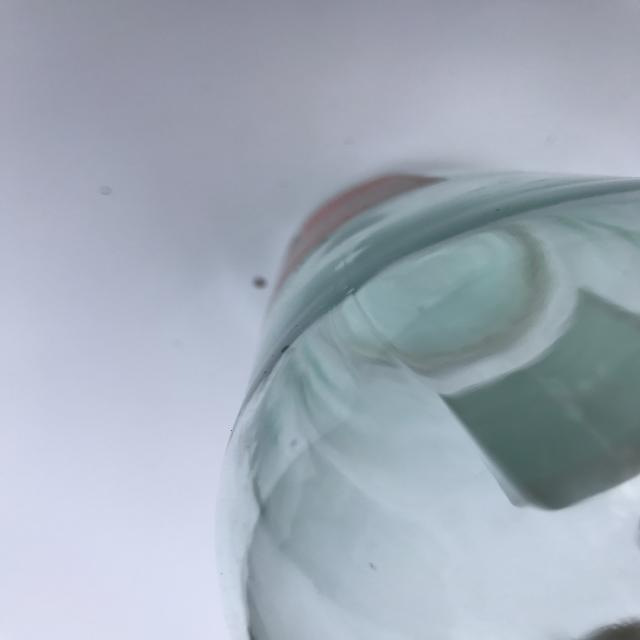glass: (208, 156, 640, 640)
